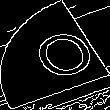O_SE: (15, 23, 95, 87)
